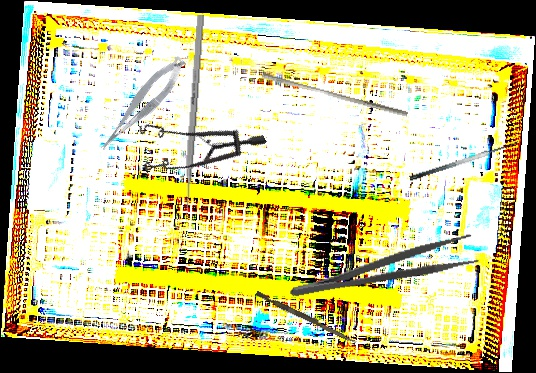Dressing Forceps: (285, 232, 480, 302)
Micro Scissor: (88, 53, 195, 154)
Pusher: (260, 72, 410, 117), (254, 290, 359, 345), (181, 14, 205, 224)
Spatula Surgical: (406, 133, 520, 182)
Speculum: (124, 73, 267, 205)
